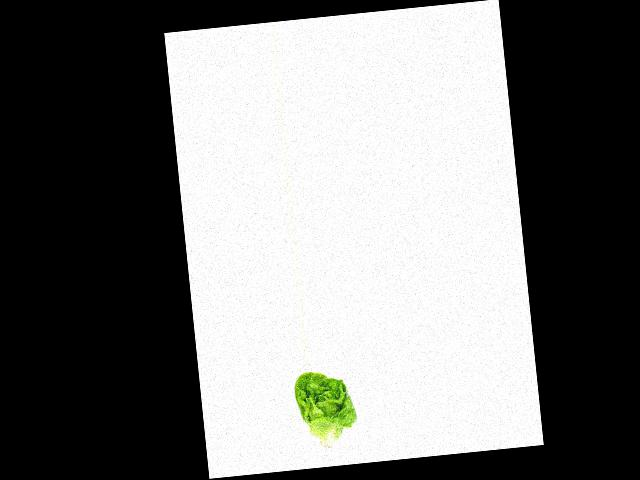lettuce: (291, 367, 363, 453)
